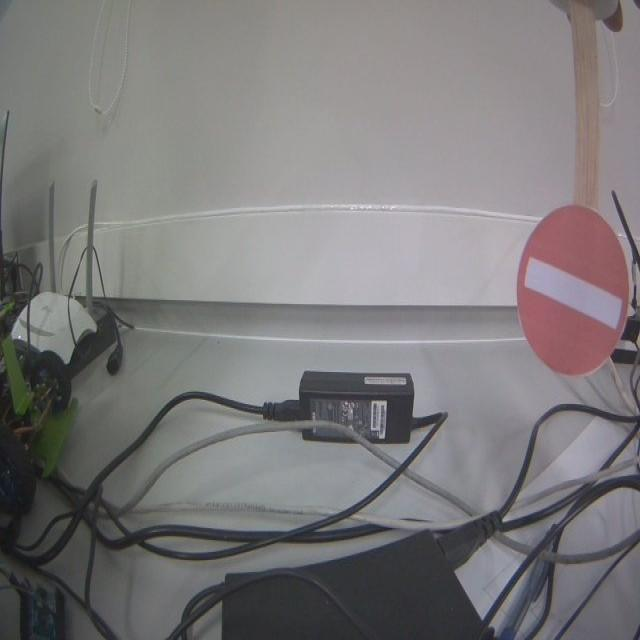Dilarang Masuk: (519, 211, 625, 369)
